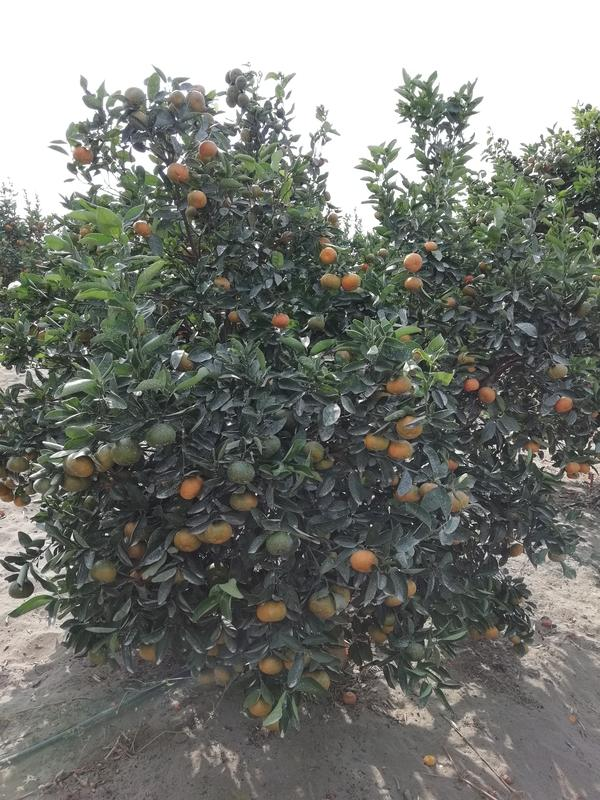mandarina naranja: (62, 454, 93, 479), (256, 601, 287, 623), (396, 416, 423, 439), (350, 550, 378, 572), (174, 530, 201, 552), (230, 492, 258, 512), (204, 523, 232, 543), (180, 477, 203, 499), (388, 440, 413, 459), (259, 658, 283, 675), (167, 162, 188, 181), (248, 700, 271, 717), (365, 435, 388, 450), (388, 379, 411, 394), (404, 253, 422, 272), (73, 145, 93, 162), (187, 190, 206, 207), (341, 275, 361, 291), (133, 220, 152, 236), (320, 274, 341, 288), (319, 247, 337, 263), (199, 141, 217, 157), (478, 387, 495, 403), (342, 691, 357, 704), (272, 315, 288, 327), (405, 277, 422, 288), (465, 379, 479, 392), (425, 242, 438, 251)
mandarina verde: (112, 438, 142, 466), (145, 423, 176, 446), (227, 462, 255, 484), (310, 595, 335, 618), (267, 533, 292, 555), (92, 560, 117, 581), (262, 434, 281, 456), (96, 446, 112, 472), (186, 90, 205, 110), (306, 441, 324, 461), (10, 582, 33, 597), (406, 642, 424, 660), (7, 456, 27, 472), (140, 644, 157, 662), (215, 666, 231, 685), (168, 91, 185, 108), (555, 397, 573, 413), (401, 487, 421, 501), (307, 316, 325, 330), (33, 477, 49, 492), (550, 365, 568, 378), (14, 493, 30, 507), (566, 461, 580, 475), (199, 669, 212, 683), (236, 93, 249, 107), (578, 303, 591, 316), (407, 580, 416, 598), (423, 754, 436, 766), (486, 627, 499, 639), (510, 545, 523, 556), (234, 75, 245, 88), (579, 463, 590, 473)
